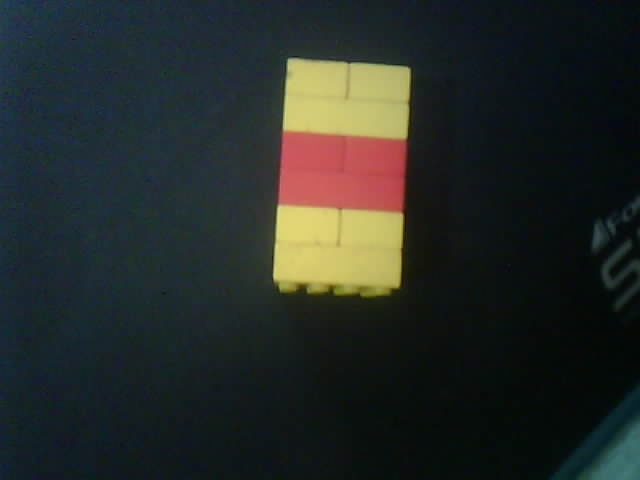lego: (270, 57, 412, 300)
